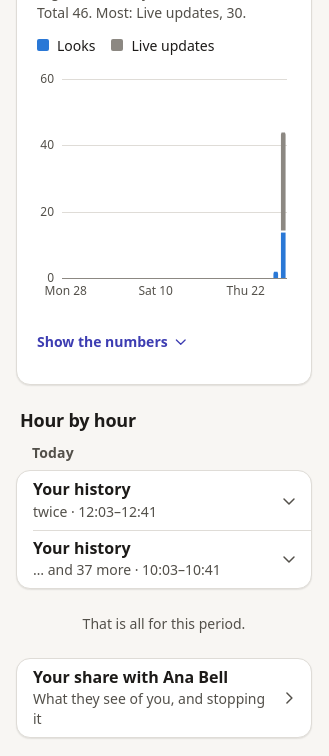
Settings › Who viewed you › one of them › shows a person's looks per day and hour by hour, each line opening to what it read
(page scrolled)
Check: the list item "Your history twice · 12:03–12:41" is shown, box [17,471,311,530]
Check: the list item "Your history … and 37 more · 10:03–10:41" is shown, box [17,530,311,588]
Click the 1st text "Your history": (82, 489) [33,478,131,500]
(page scrolled)
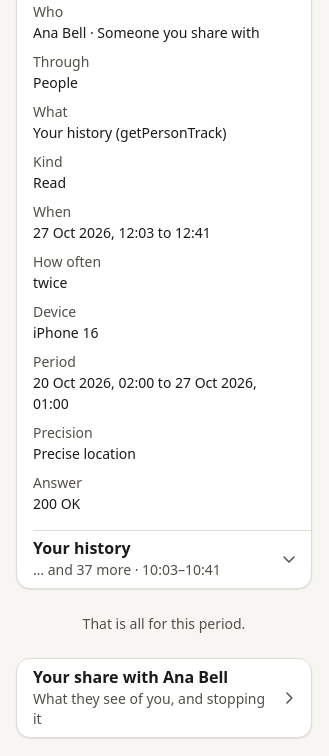
Check: the text "That is all for this period." is shown, box [83,613,245,634]
Check: the text "200 OK" is shown, box [33,494,80,513]
